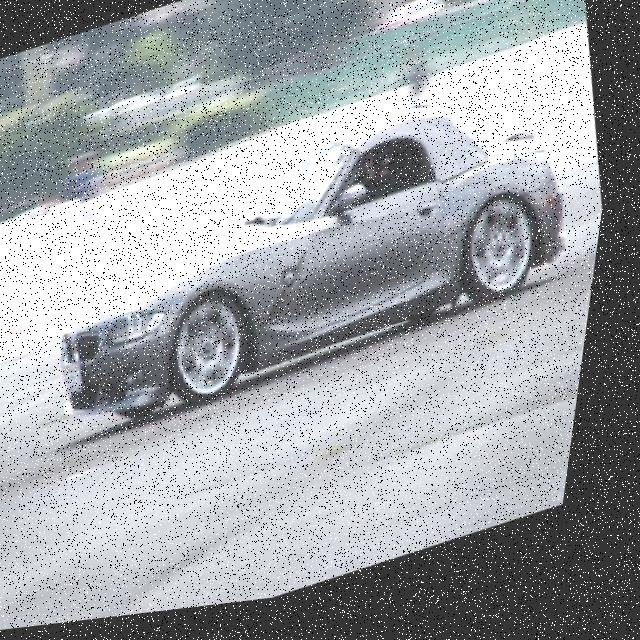license_plate: (70, 364, 97, 399)
